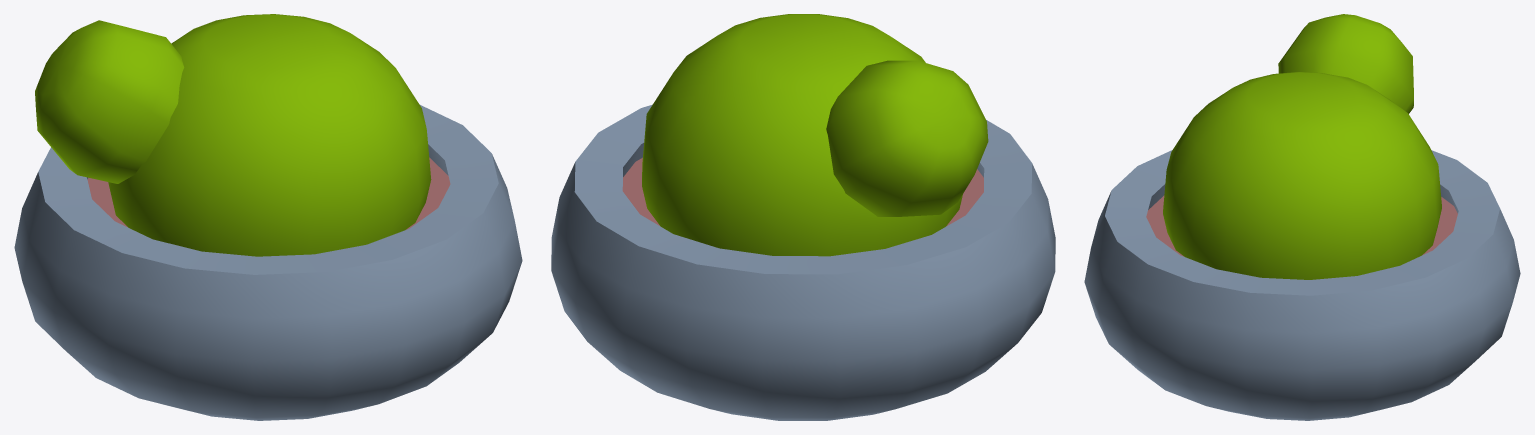
The model's file is plant1.glb.
3 renders of one model, left to right at view 1: azimuth 30°, elevation 25°; view 2: azimuth 150°, elevation 25°; view 3: azimuth 270°, elevation 25°, orthographic. The views are drawn at different scales.
Parts seen in each view (by area): view 1: Decoration_Plant1; view 2: Decoration_Plant1; view 3: Decoration_Plant1.
Part boxes in pixels (<box>): Decoration_Plant1: <box>14,14,522,420</box>; Decoration_Plant1: <box>551,14,1055,420</box>; Decoration_Plant1: <box>1084,14,1520,420</box>.
Bounding box in the file's own units: 1.09 × 0.8377 × 1.09.
Materials: 1 (1 with a texture image).
